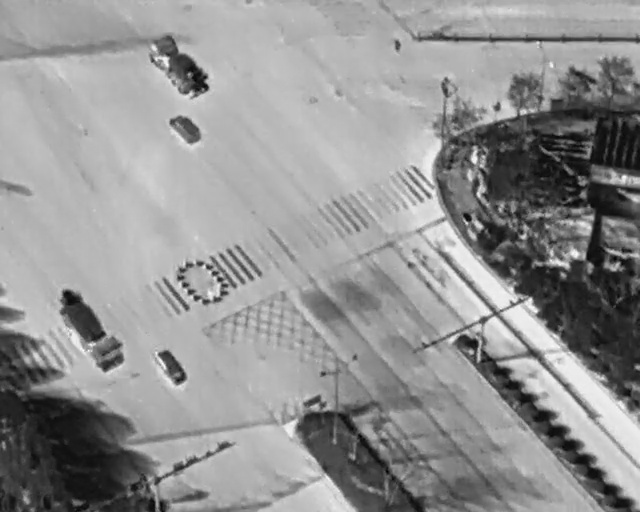Car: (48, 279, 130, 377), (142, 26, 214, 105), (151, 343, 192, 388), (167, 110, 204, 148)
